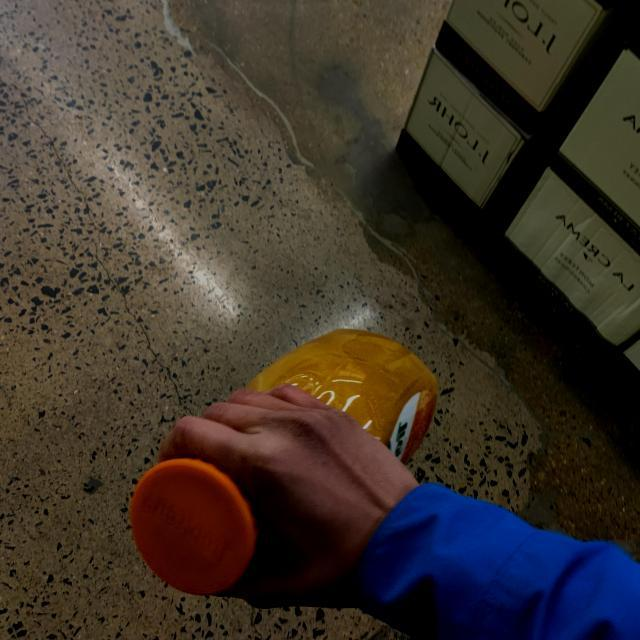Juice: (106, 322, 454, 610)
